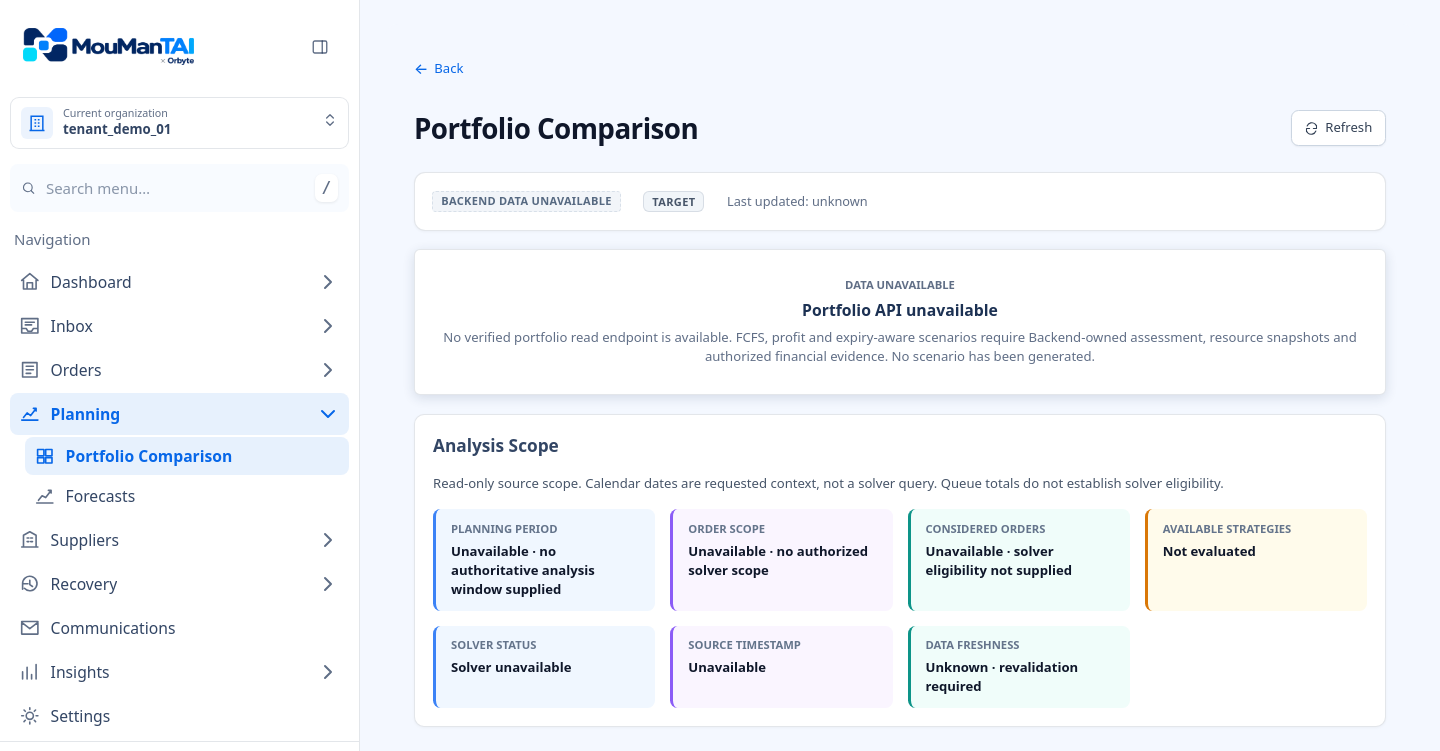
Scenario: registers the exact static route without dynamic detail lookup for user_owner_01
Expected: the heading "Portfolio API unavailable" is shown, top-left (802, 299), bottom-right (998, 321)
Click the link with aria-label "Back to Order Decision Queue". click: (439, 68)
box: top-left (414, 58), bottom-right (464, 78)
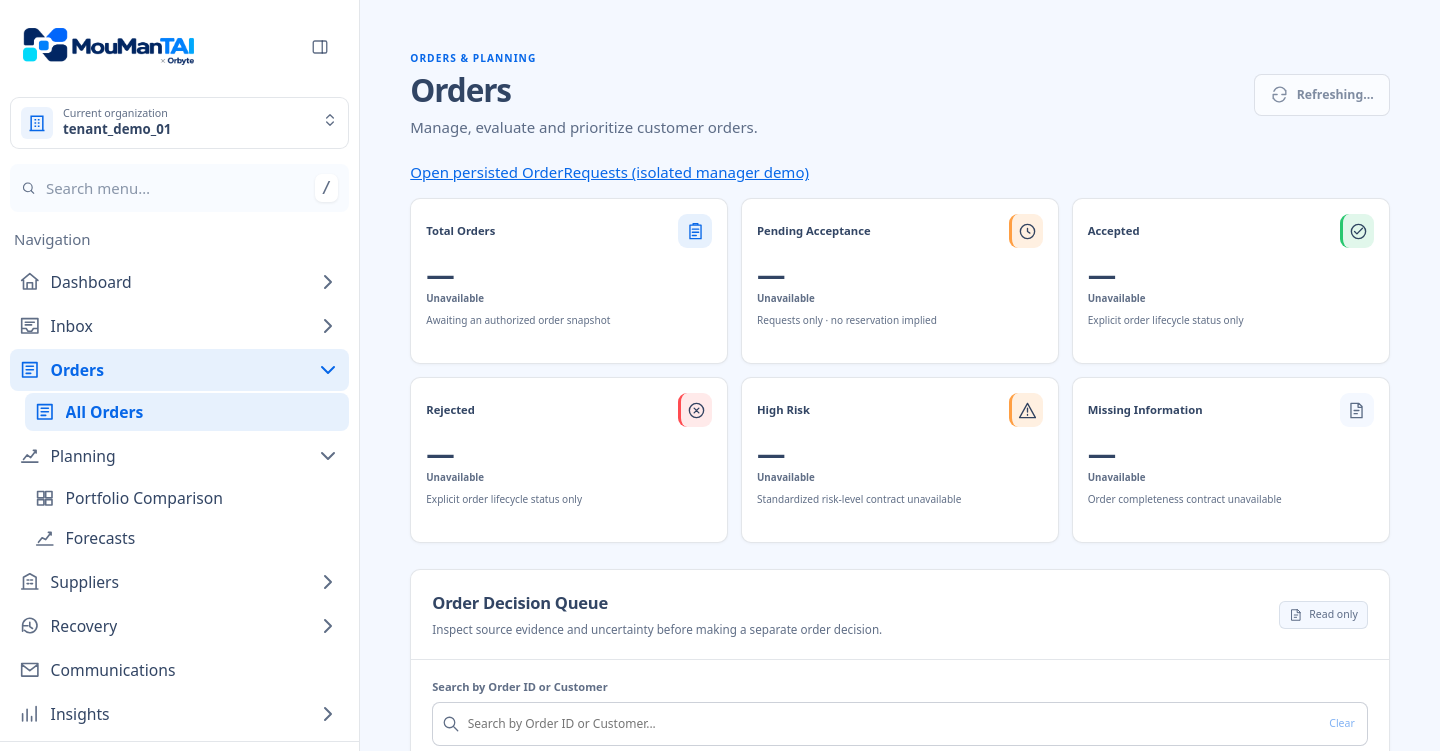
Result: the heading "Order Decision Queue" is shown at top-left (432, 591), bottom-right (608, 614)
Click the link "Portfolio Comparison". click: (128, 498)
box: top-left (34, 487), bottom-right (223, 509)
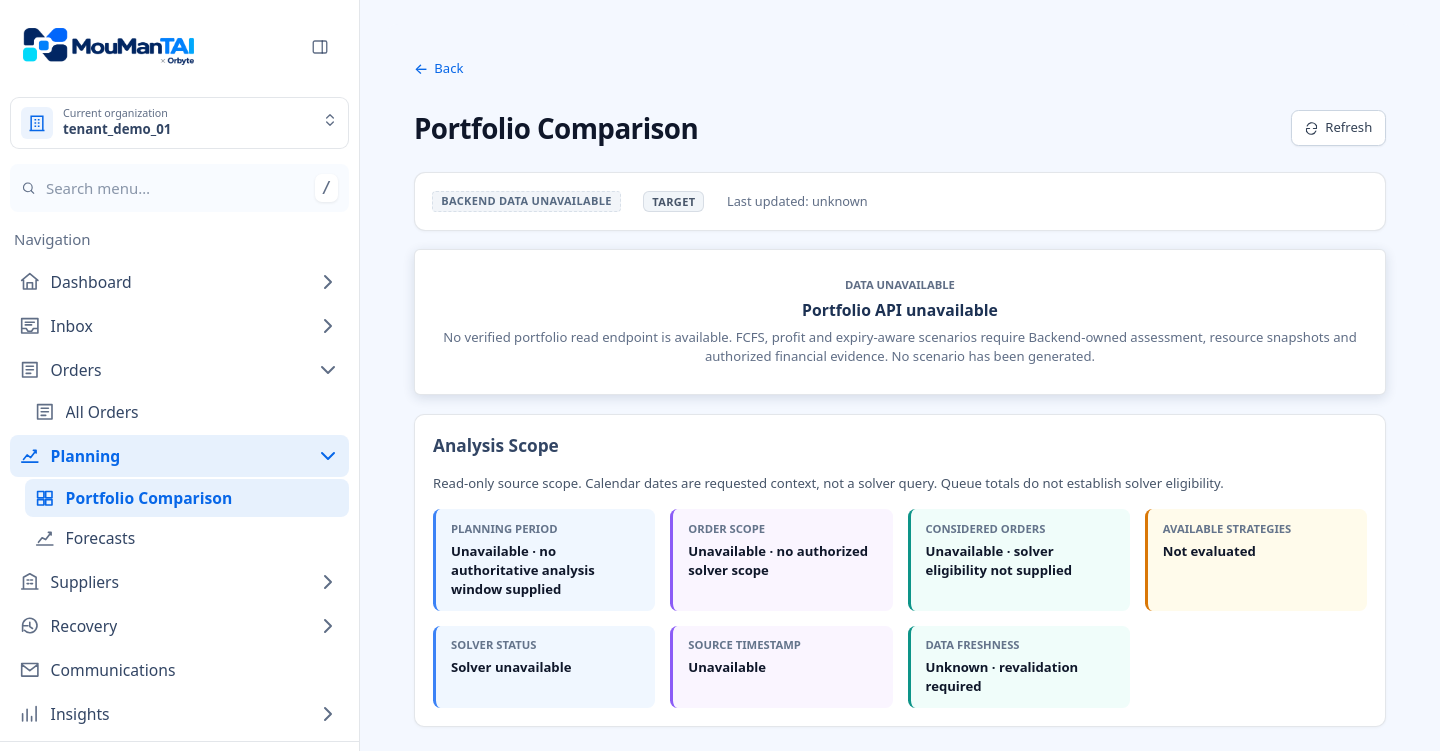
Result: the heading "Portfolio Comparison" is shown at top-left (414, 111), bottom-right (698, 145)
